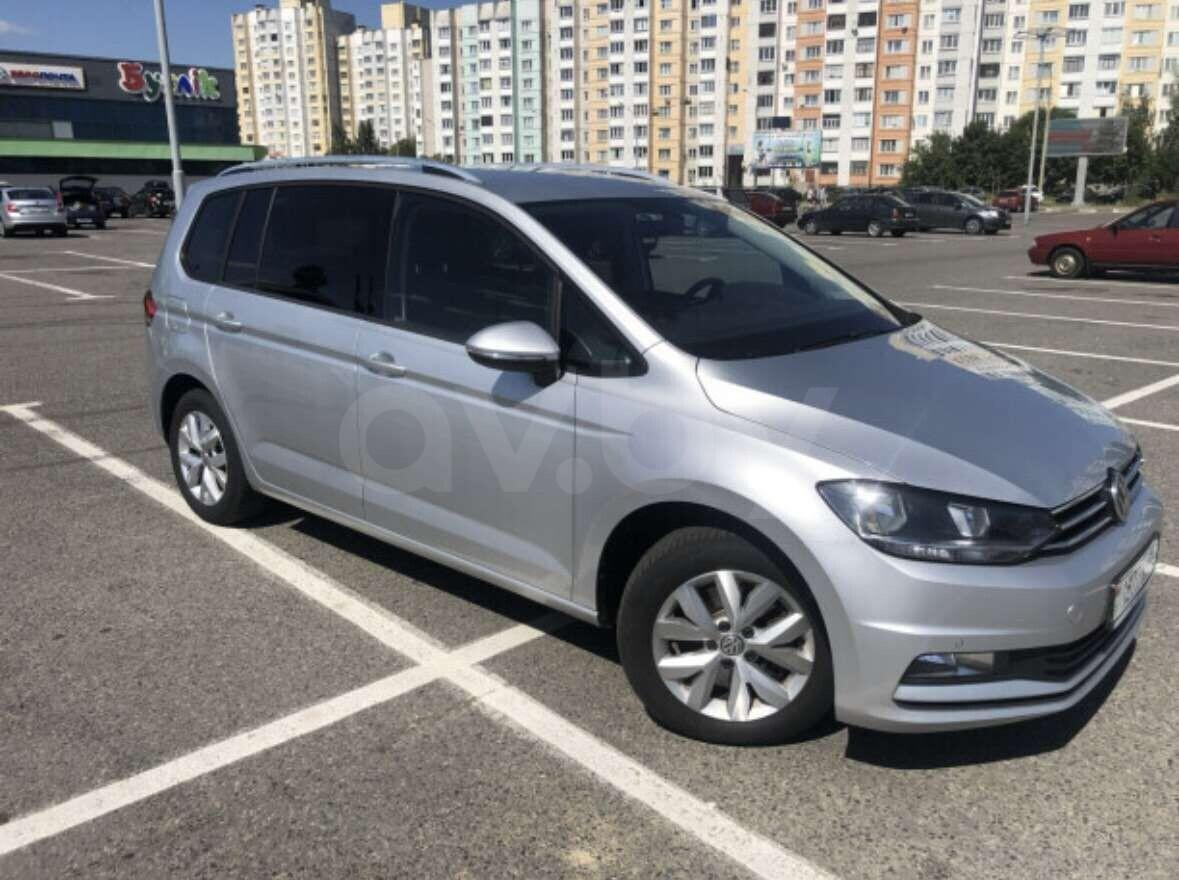Touran_2015: (138, 158, 1161, 760)
